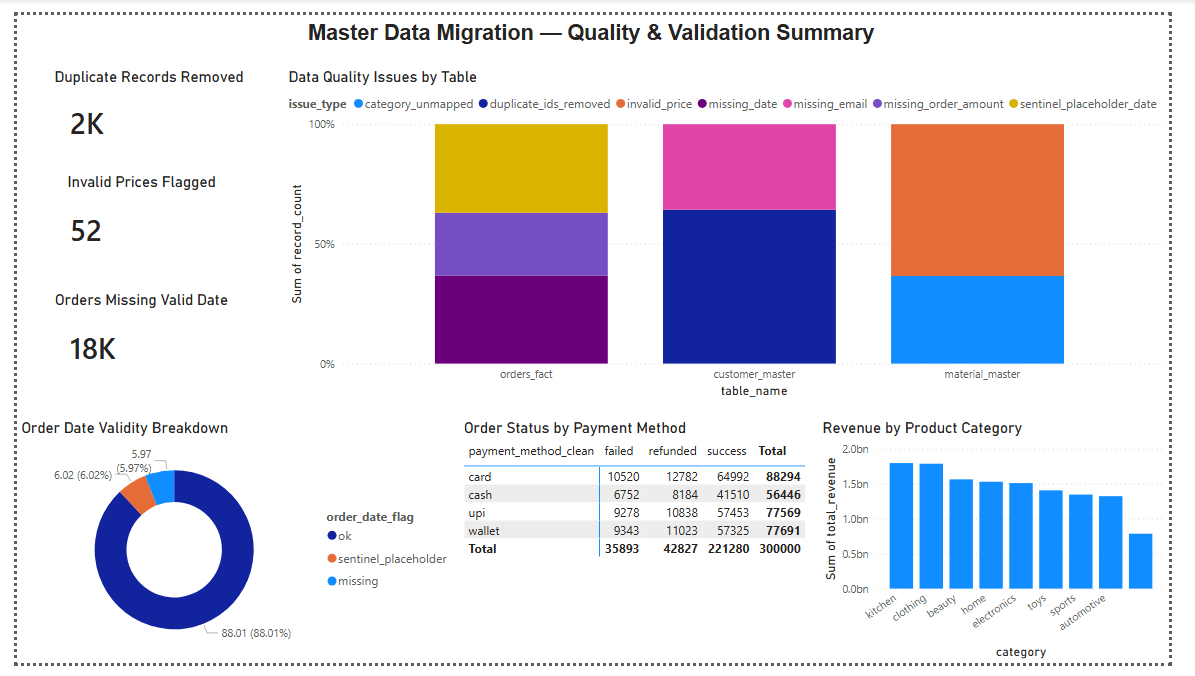

What the dashboard file says about the page in this screenshot:
{"tool":"powerbi","page":{"name":"Page 1","canvas":[1280,720],"ordinal":0},"visuals":[{"type":"cardVisual","title":"Duplicate Records Removed","fields":{"Data":["Sum(reconciliation_summary.record_count)"]},"box":[30,58.3,233.3,100],"z":0},{"type":"cardVisual","title":"Invalid Prices Flagged","fields":{"Data":["Sum(reconciliation_summary.record_count)"]},"box":[30,175,216.7,105],"z":1},{"type":"cardVisual","title":"Orders Missing Valid Date","fields":{"Data":["Sum(reconciliation_summary.record_count)"]},"box":[30,306.7,216.7,105],"z":2},{"type":"hundredPercentStackedColumnChart","title":"Data Quality Issues by Table","fields":{"Category":["reconciliation_summary.table_name"],"Y":["Sum(reconciliation_summary.record_count)"],"Series":["reconciliation_summary.issue_type"]},"box":[296.7,58.3,983.3,371.7],"z":3},{"type":"clusteredColumnChart","title":"Revenue by Product Category","fields":{"Category":["revenue_by_category.category"],"Y":["Sum(revenue_by_category.total_revenue)"]},"box":[890,448.3,390,271.7],"z":4},{"type":"donutChart","title":"Order Date Validity Breakdown","fields":{"Category":["orders_date_quality.order_date_flag"],"Y":["Sum(orders_date_quality.pct_of_total)"]},"box":[0,448.3,491.7,271.7],"z":5},{"type":"pivotTable","title":"Order Status by Payment Method","fields":{"Rows":["payment_status_crosstab.payment_method_clean"],"Columns":["payment_status_crosstab.status_clean"],"Values":["Sum(payment_status_crosstab.order_count)"]},"box":[491.7,448.3,398.3,201.7],"z":6},{"type":"textbox","box":[318.3,0,643.3,58.3],"z":7}]}

Visuals, with their boxes in screenshot pixels (x1, y1, x2, y2), scaled from the page's 1280x720 canvas onto the 1195x676 screenshot:
"Duplicate Records Removed" cardVisual: BBox(28, 55, 246, 149)
"Invalid Prices Flagged" cardVisual: BBox(28, 164, 230, 263)
"Orders Missing Valid Date" cardVisual: BBox(28, 288, 230, 387)
"Data Quality Issues by Table" hundredPercentStackedColumnChart: BBox(277, 55, 1194, 404)
"Revenue by Product Category" clusteredColumnChart: BBox(831, 421, 1194, 675)
"Order Date Validity Breakdown" donutChart: BBox(0, 421, 459, 675)
"Order Status by Payment Method" pivotTable: BBox(459, 421, 831, 610)
textbox: BBox(297, 0, 898, 55)
